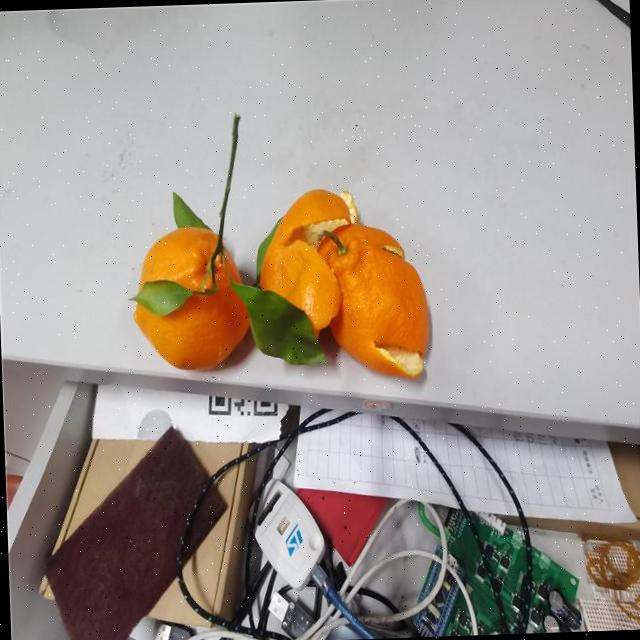orange-peel: (315, 219, 432, 381), (128, 222, 252, 372)
